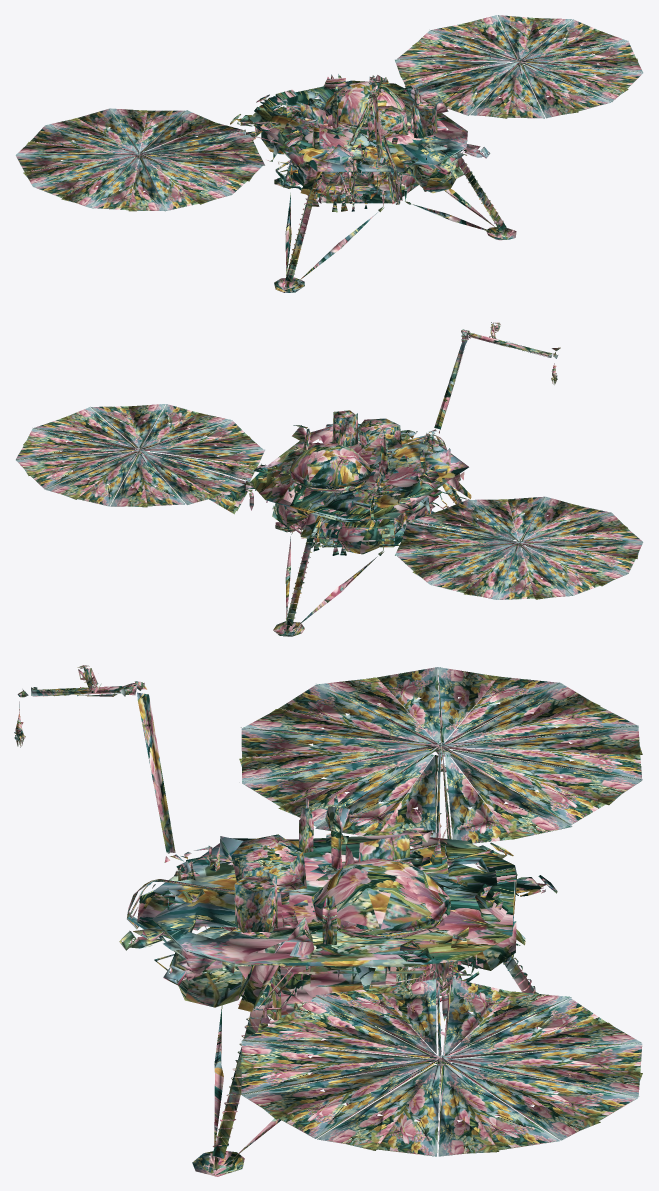
The model's file is nasa_insight-cruise-lander.glb.
3 renders of one model, top to bottom at view 1: azimuth 30°, elevation 25°; view 2: azimuth 150°, elevation 25°; view 3: azimuth 270°, elevation 25°, orthographic. The views are drawn at different scales.
Parts seen in each view (by area): view 1: A; view 2: A; view 3: A.
Part boxes in pixels (bbox=[...]): A: bbox=[15, 15, 643, 292]; A: bbox=[16, 322, 643, 636]; A: bbox=[14, 665, 642, 1176].
Size of the model in its own units: 2 by 0.71 by 1.08.
Materials: 140 (140 with a texture image).
